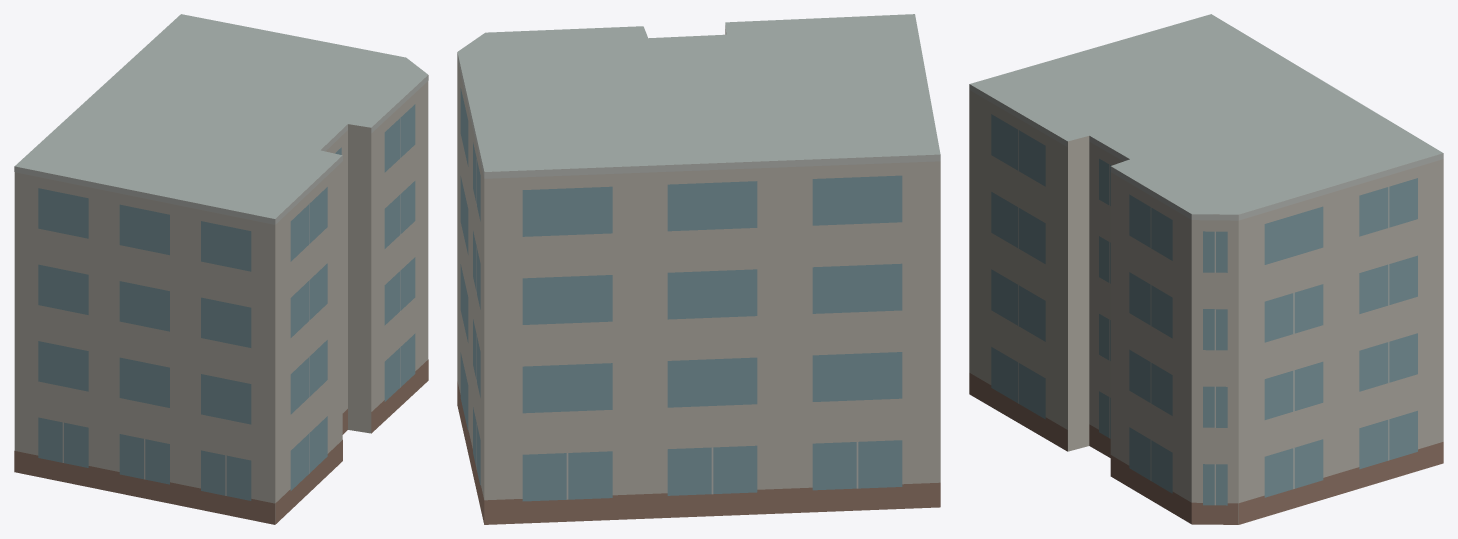
Rendered from survey-upis-33030419.glb.
3 renders of one model, left to right at view 1: azimuth 30°, elevation 25°; view 2: azimuth 150°, elevation 25°; view 3: azimuth 270°, elevation 25°, orthographic. The views are drawn at different scales.
Visible parts, largest first — view 1: survey-upis-33030419.tmp; view 2: survey-upis-33030419.tmp; view 3: survey-upis-33030419.tmp.
Part boxes in pixels (<box>): survey-upis-33030419.tmp: <box>14,14,428,524</box>; survey-upis-33030419.tmp: <box>457,14,940,524</box>; survey-upis-33030419.tmp: <box>969,14,1443,524</box>.
Bounding box in the file's own units: 17.76 × 12.8 × 17.74.
